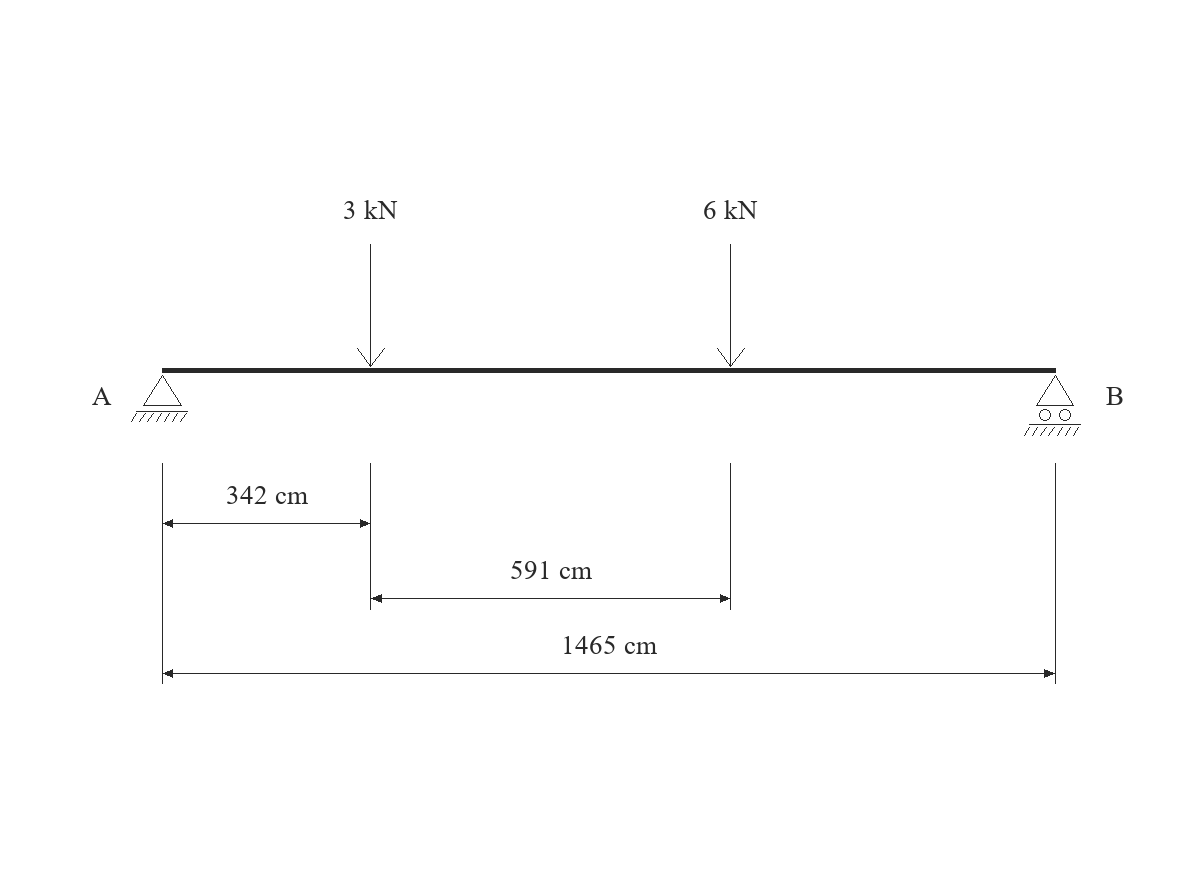pin_support: (131, 375, 188, 422)
point_load: (357, 244, 385, 367), (717, 244, 745, 367)
roller_support: (1024, 375, 1081, 436)
